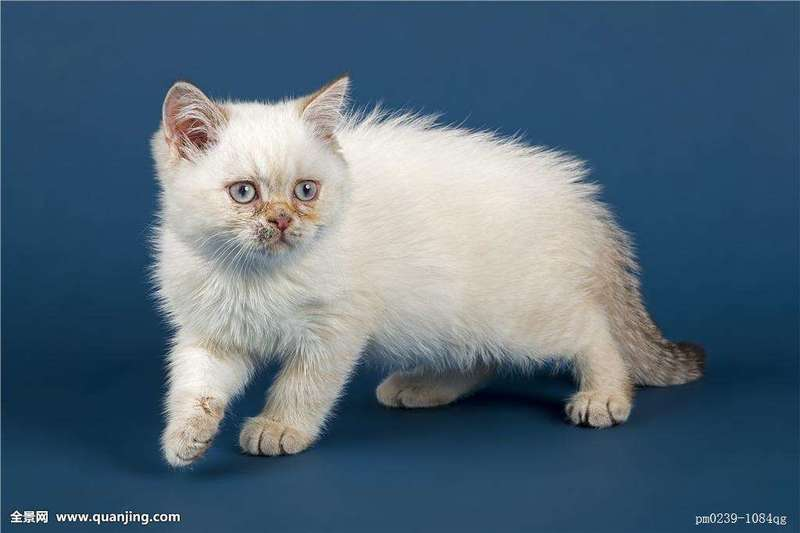cat: (119, 58, 390, 285)
